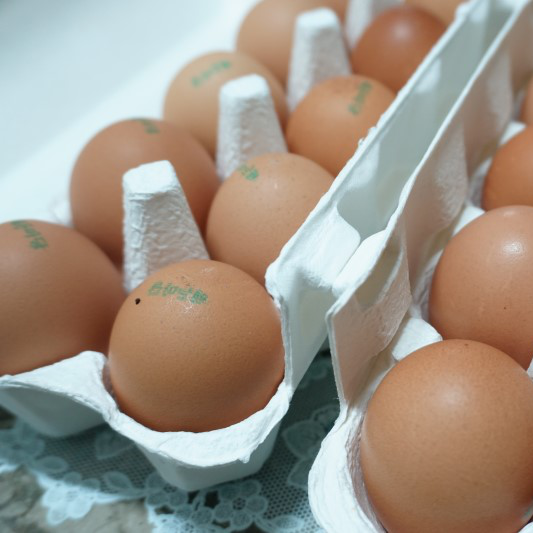egg: (1, 1, 471, 432), (360, 73, 533, 532)
